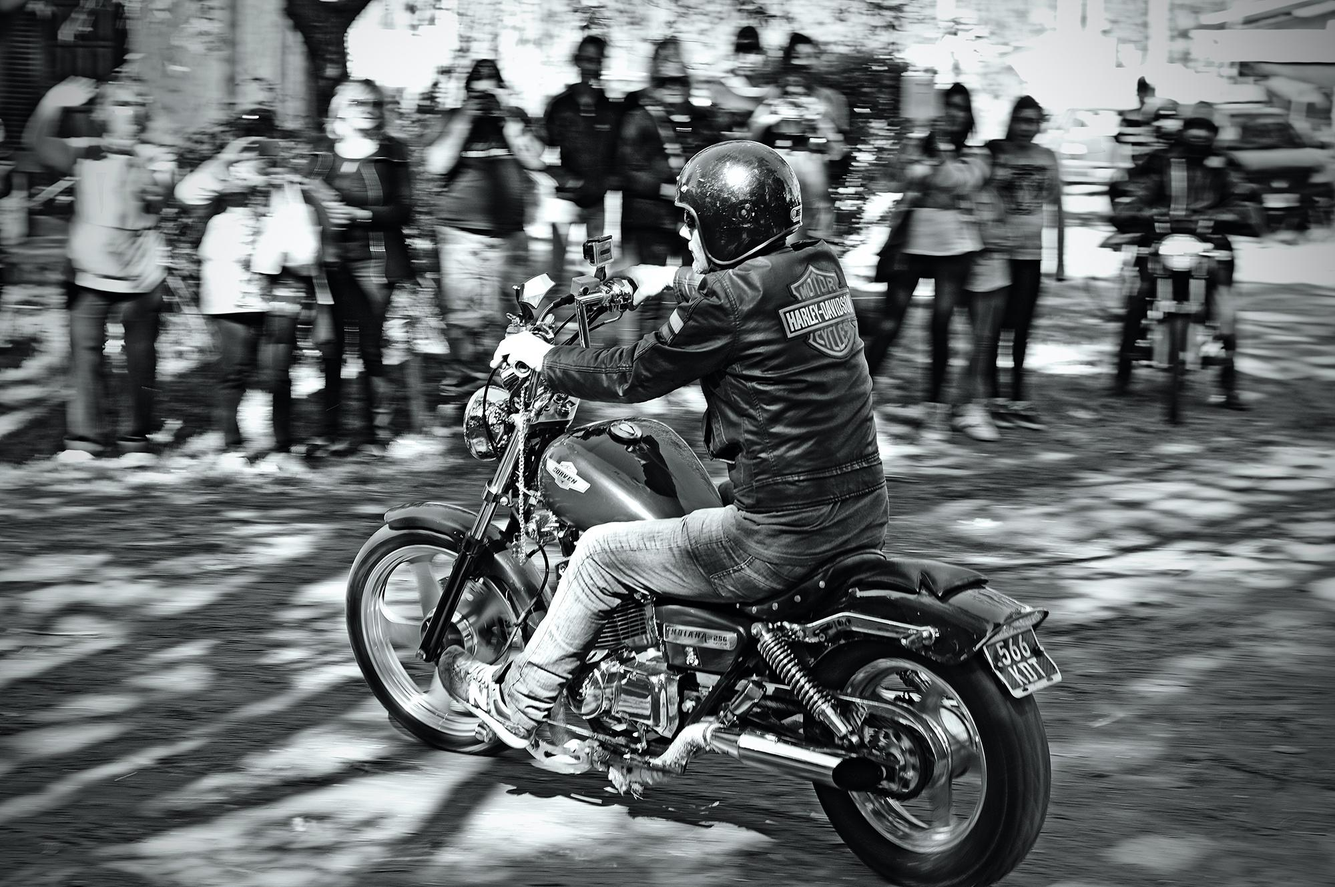helmet: (673, 138, 804, 276)
